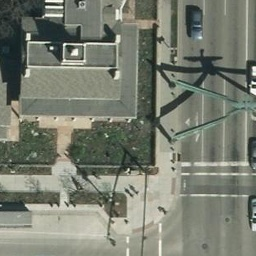car: (188, 7, 204, 41)
